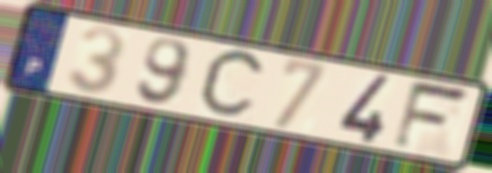3: (65, 23, 130, 97)
4: (336, 73, 391, 146)
7: (269, 54, 334, 133)
9: (135, 38, 194, 108)
C: (194, 47, 270, 122)
F: (388, 78, 474, 153)
